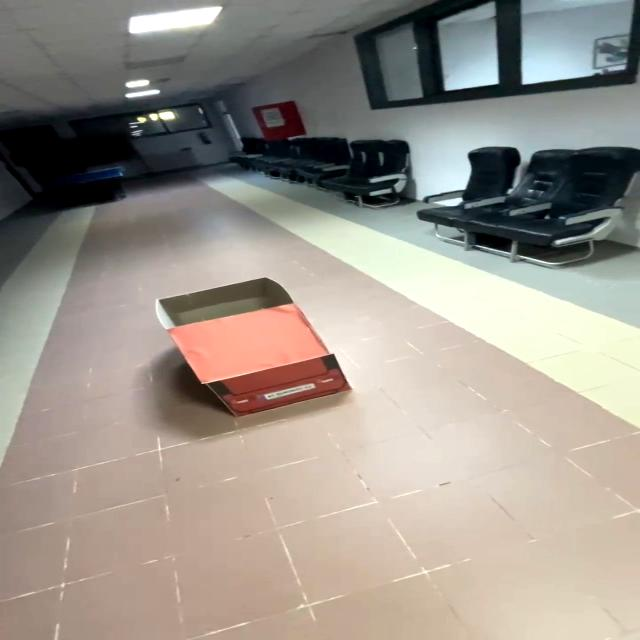red_car: (130, 255, 367, 451)
